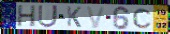6: (112, 5, 130, 30)
C: (132, 7, 153, 30)
H: (16, 5, 37, 28)
K: (66, 6, 83, 29)
U: (37, 5, 60, 29)
V: (85, 6, 107, 30)
